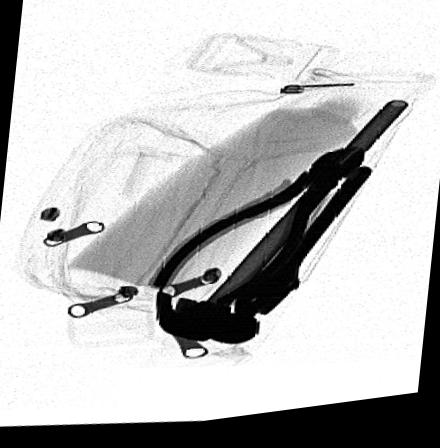Hammer: (156, 107, 415, 350)
Pliers: (149, 152, 364, 329)
Wrench: (208, 171, 379, 333)
